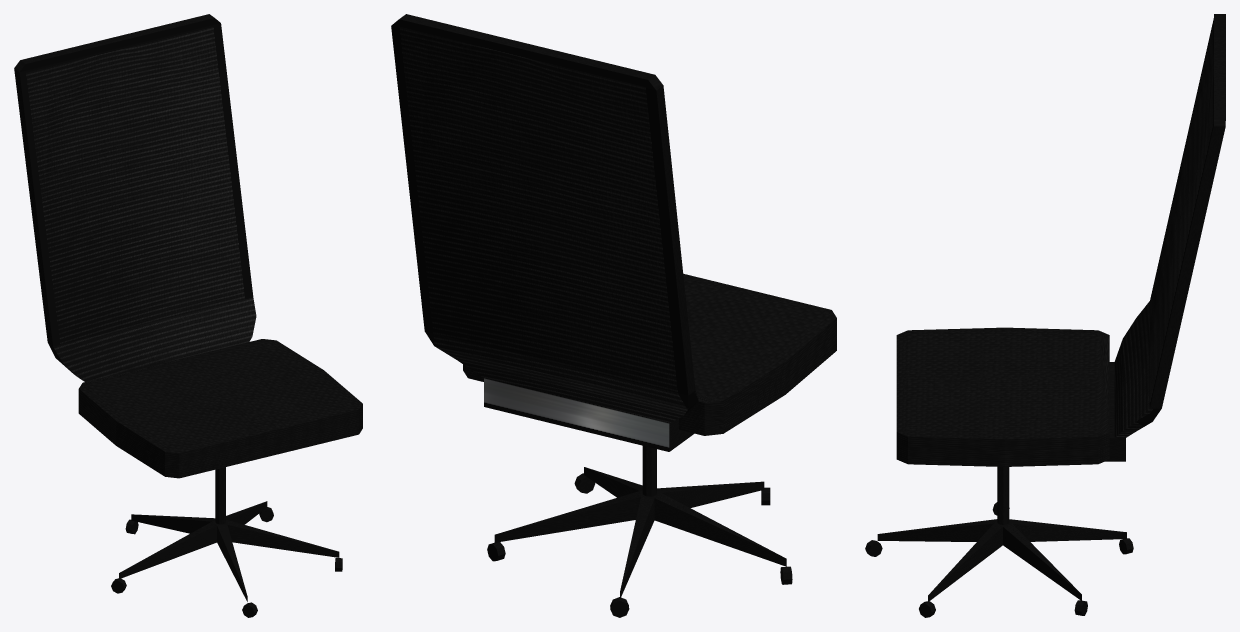
Rendered from chair.dae.
3 renders of one model, left to right at view 1: azimuth 30°, elevation 25°; view 2: azimuth 150°, elevation 25°; view 3: azimuth 270°, elevation 25°, orthographic. The views are drawn at different scales.
Parts seen in each view (by area): view 1: chair; view 2: chair; view 3: chair.
Part boxes in pixels (bbox=[...]): chair: bbox=[14, 14, 362, 617]; chair: bbox=[391, 14, 836, 617]; chair: bbox=[865, 14, 1225, 617].
Size of the model in its own units: 0.8938 by 1.19 by 1.83.
1 material, 1 textured.
